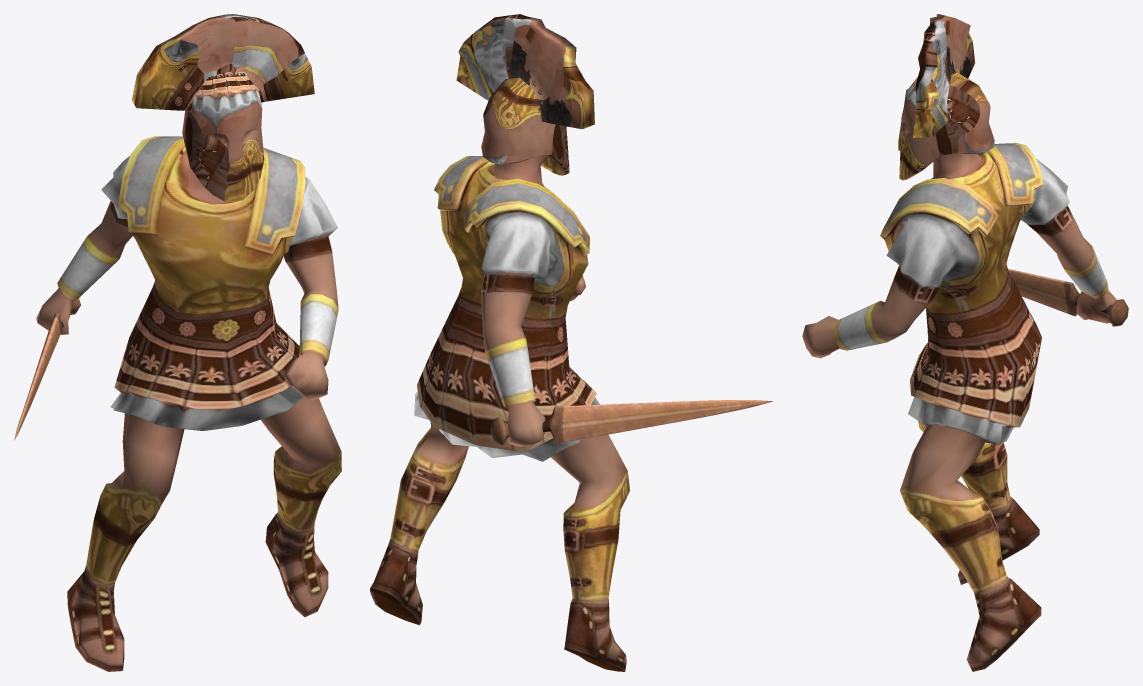
File: rider-base.glb
3 views of the same model, side by side, from view 1: azimuth 30°, elevation 25°; view 2: azimuth 150°, elevation 25°; view 3: azimuth 270°, elevation 25° (orthographic). The views are drawn at different scales.
Size of the model in its own units: 1.35 by 2.29 by 1.12.
2 materials, 2 textured.
